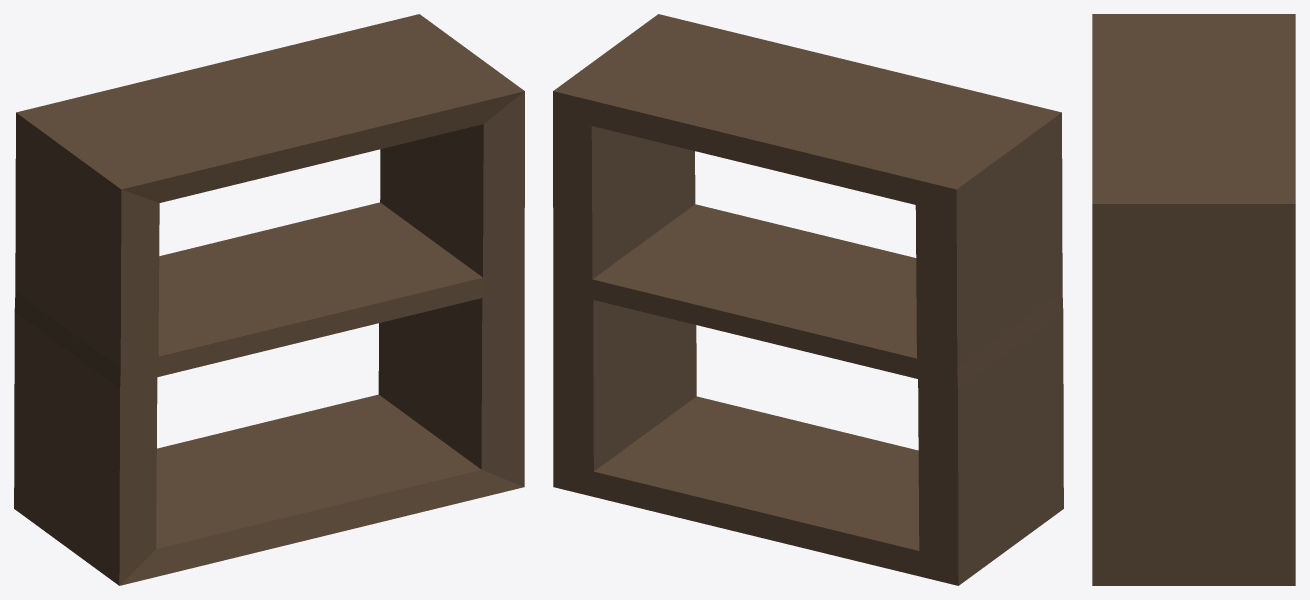
The model's file is Estante Pequeño tipo 2.fbx.
The picture shows the model from 3 angles, left to right: view 1: azimuth 30°, elevation 25°; view 2: azimuth 150°, elevation 25°; view 3: azimuth 270°, elevation 25°; orthographic projection. The views are drawn at different scales.
Visible parts, largest first — view 1: Estante_pequelo_tipo_2; view 2: Estante_pequelo_tipo_2; view 3: Estante_pequelo_tipo_2.
Part boxes in pixels (left/top/right/bottom): Estante_pequelo_tipo_2: left=14, top=14, right=524, bottom=585; Estante_pequelo_tipo_2: left=553, top=14, right=1063, bottom=585; Estante_pequelo_tipo_2: left=1092, top=14, right=1295, bottom=585.
Size of the model in its own units: 1.56 by 1.46 by 0.7032.
